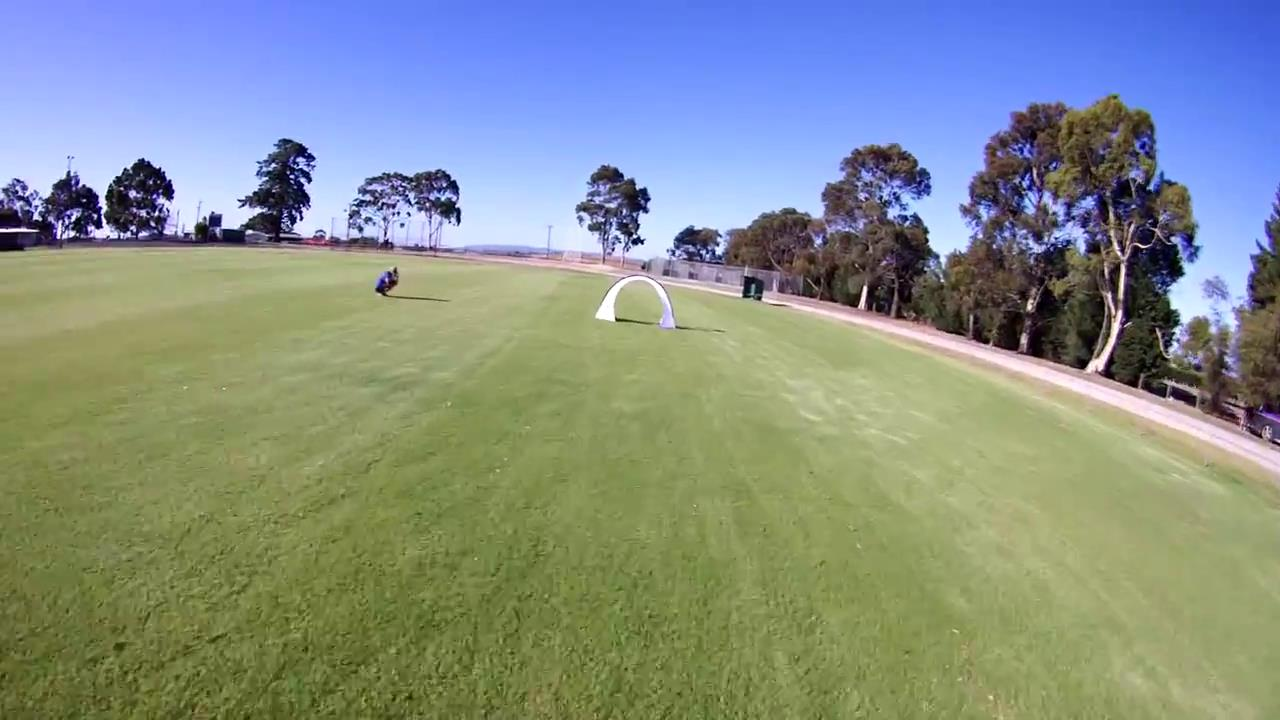gate: (593, 273, 679, 330)
